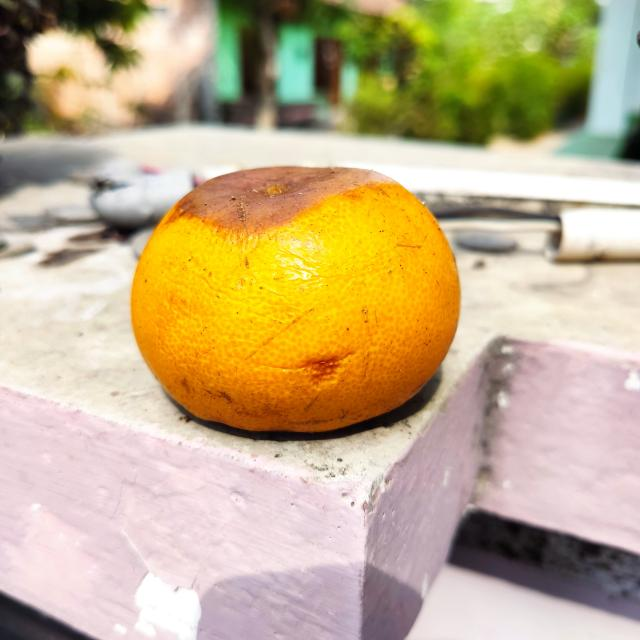orange: (129, 166, 463, 434)
